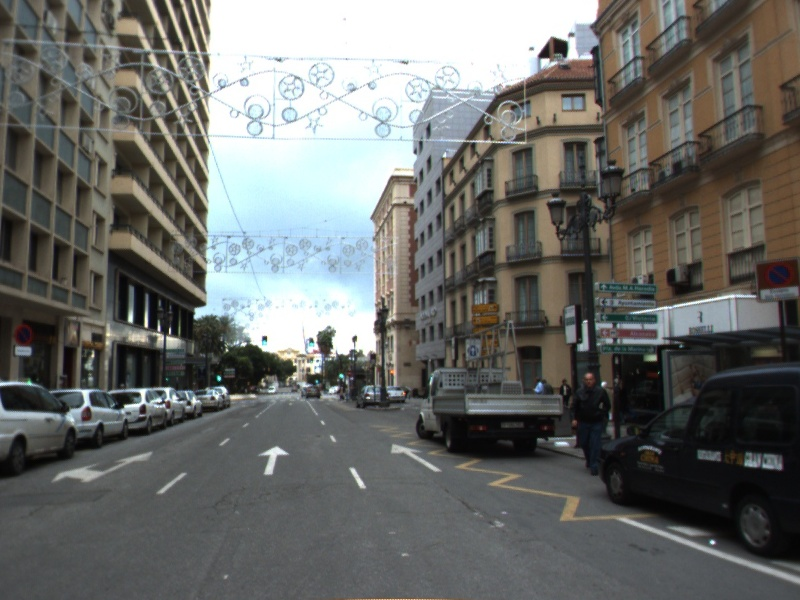STRAIGHT: (389, 441, 445, 474), (255, 444, 292, 477)
STRAIGHT_LEFT: (49, 449, 155, 485)
